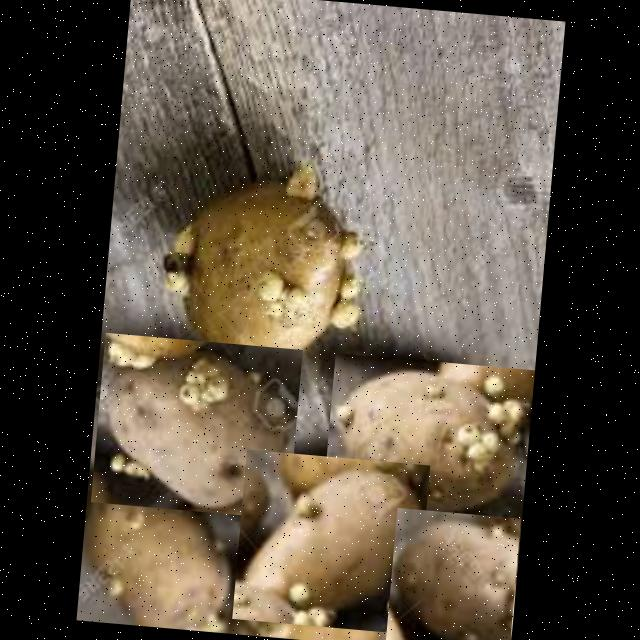Sprouted potato: (156, 169, 357, 388), (90, 331, 302, 518), (231, 448, 429, 633), (321, 352, 534, 522), (76, 472, 242, 630), (384, 506, 520, 640)
